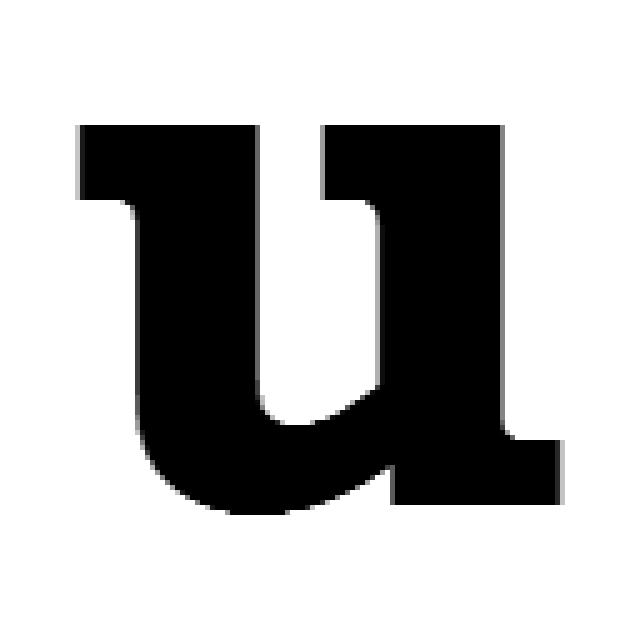U: (70, 115, 565, 515)
